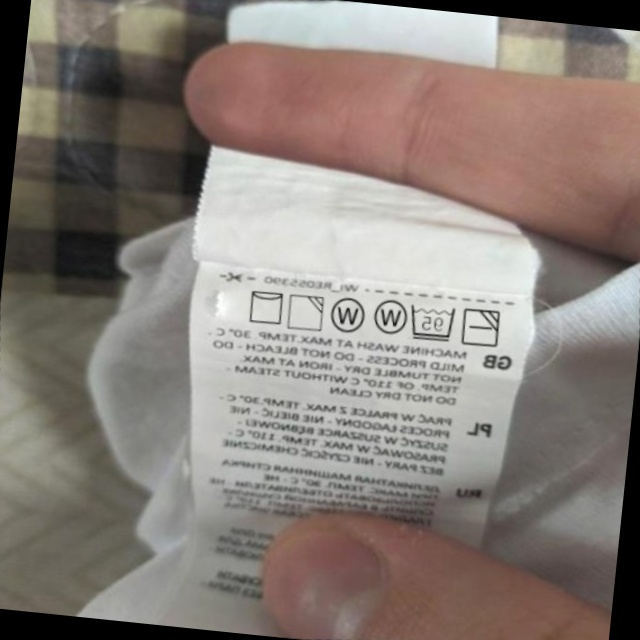95C: (403, 297, 462, 348)
dry_flat_in_shade: (456, 301, 507, 354)
line_dry: (241, 282, 290, 331)
shade_dry: (281, 288, 330, 337)
wet_clean: (324, 291, 371, 340), (366, 291, 412, 340)
